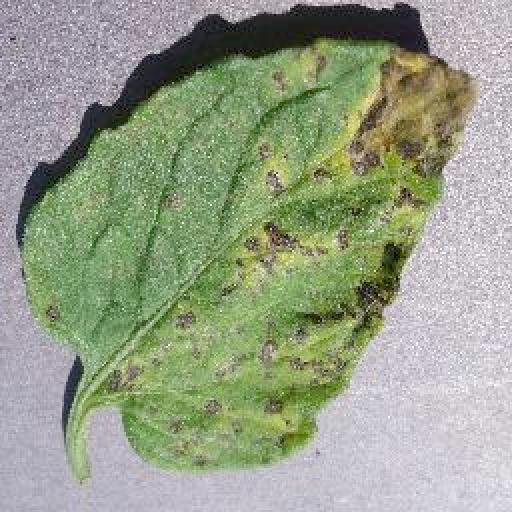disease_tomato: (22, 40, 472, 472)
